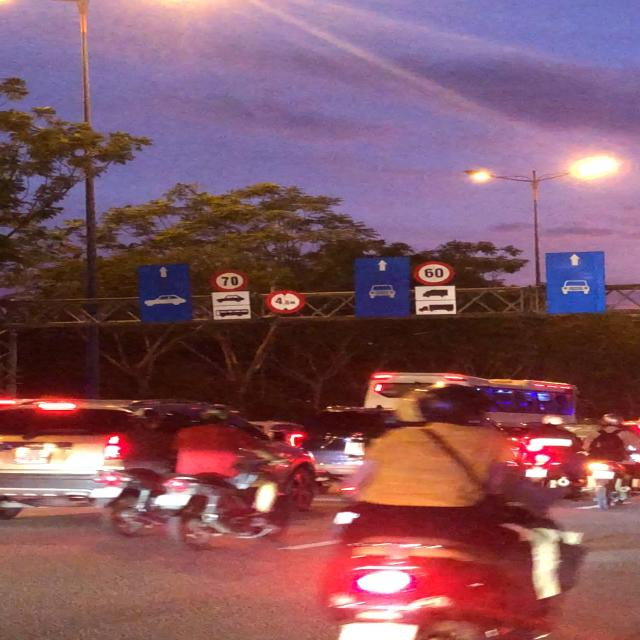Bien bao han che chieu cao: (264, 287, 308, 314)
Bien bao toc do toi da cho phep: (410, 259, 460, 287), (209, 268, 252, 294)
